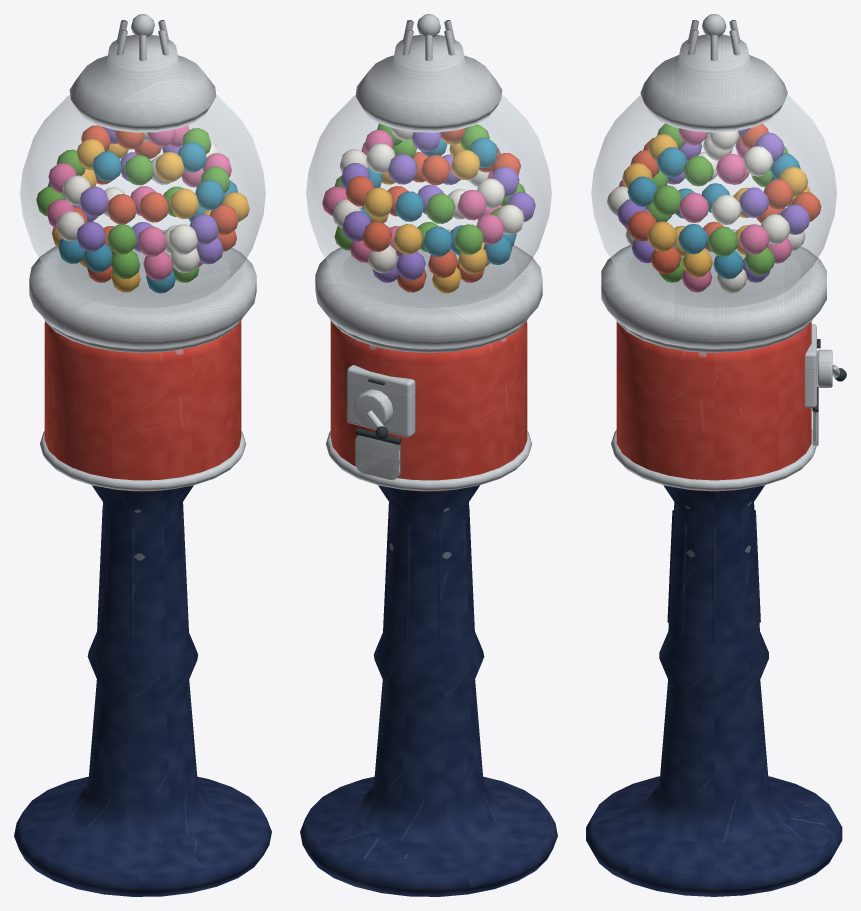
File: gumball.fbx
3 renders of one model, left to right at view 1: azimuth 30°, elevation 25°; view 2: azimuth 150°, elevation 25°; view 3: azimuth 270°, elevation 25°, orthographic.
Parts seen in each view (by area): view 1: Body; view 2: Body; view 3: Body.
Boxes of the visible parts, bbox=[...] form: Body: bbox=[14, 14, 271, 896]; Body: bbox=[300, 14, 557, 896]; Body: bbox=[586, 14, 846, 896].
Size of the model in its own units: 0.42 by 1.49 by 0.4245.
